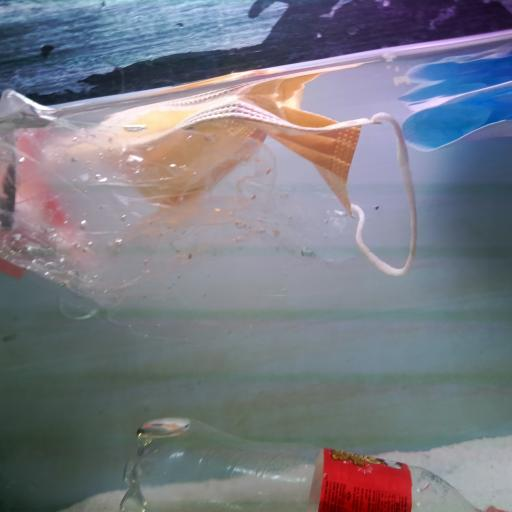mask: (93, 102, 425, 289), (399, 73, 512, 186)
plastic_bag: (5, 98, 371, 440)
plastic_bottle: (129, 415, 512, 512)
